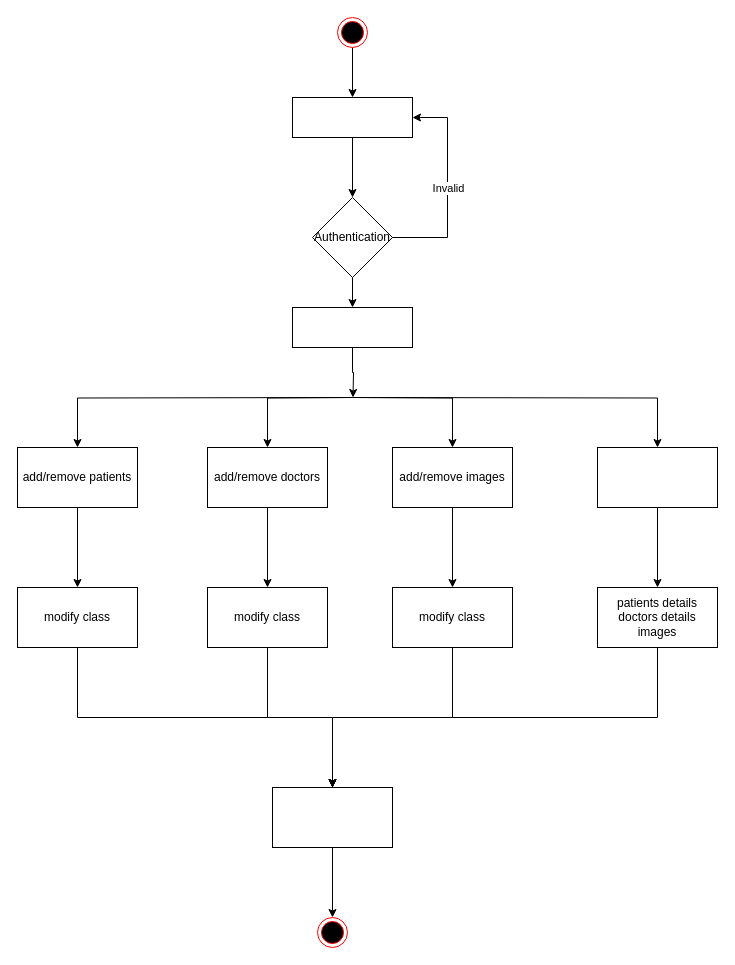
Image size: 735x965. Some labels were removed from this diagram. Each missing label, with the box of its shape:
Admin login: (292, 96, 412, 138)
log out: (272, 786, 392, 848)
registration of users: (292, 306, 412, 348)
view reports: (596, 446, 718, 508)
